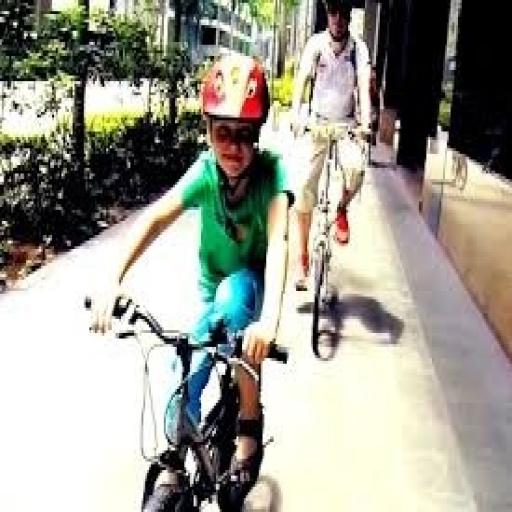cycling: (86, 50, 292, 510), (289, 0, 376, 294)
